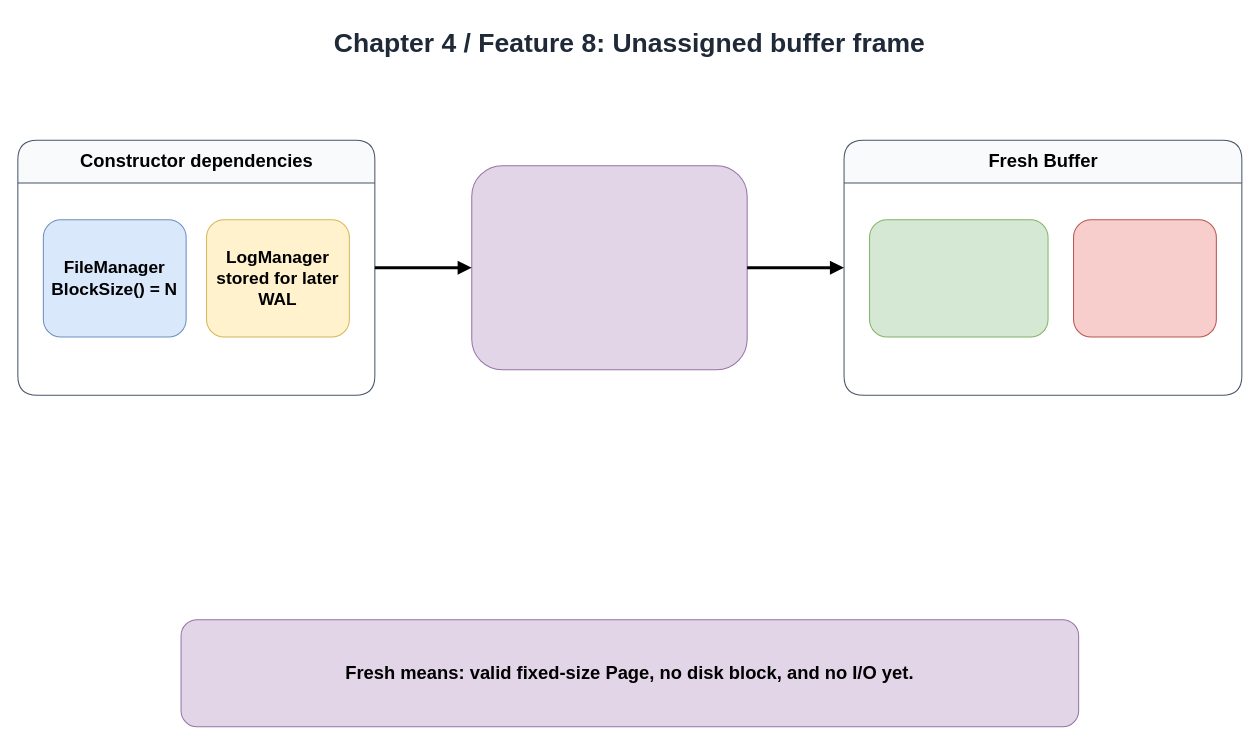
This 1260x745 diagram has some shape labels left out. The centre of each missing label's shape, as x and y in pixels:
BlockID unassigned: the point at 1144,278
buffer.New validate dependencies allocate Page(N): the point at 609,267
Contents Page capacity = N all bytes = 0: the point at 958,278
